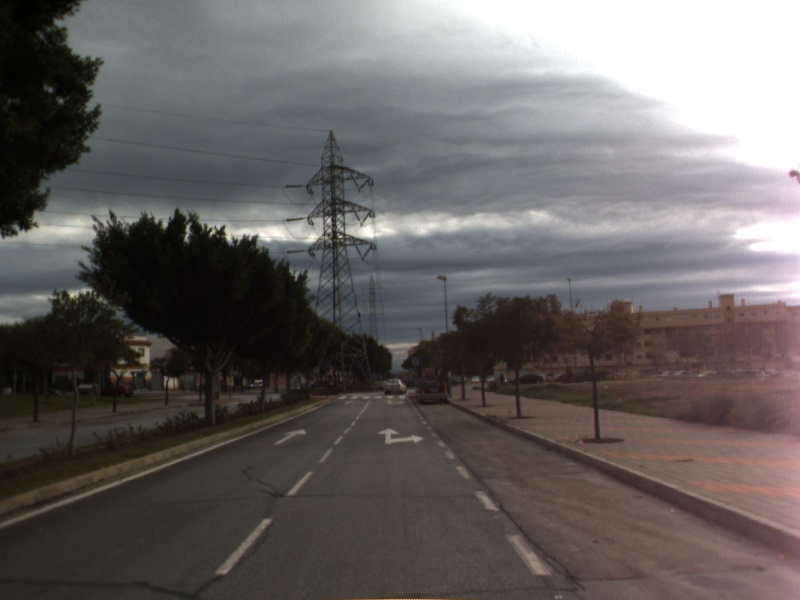STRAIGHT: (270, 426, 309, 447)
STRAIGHT_RIGHT: (375, 426, 426, 446)
